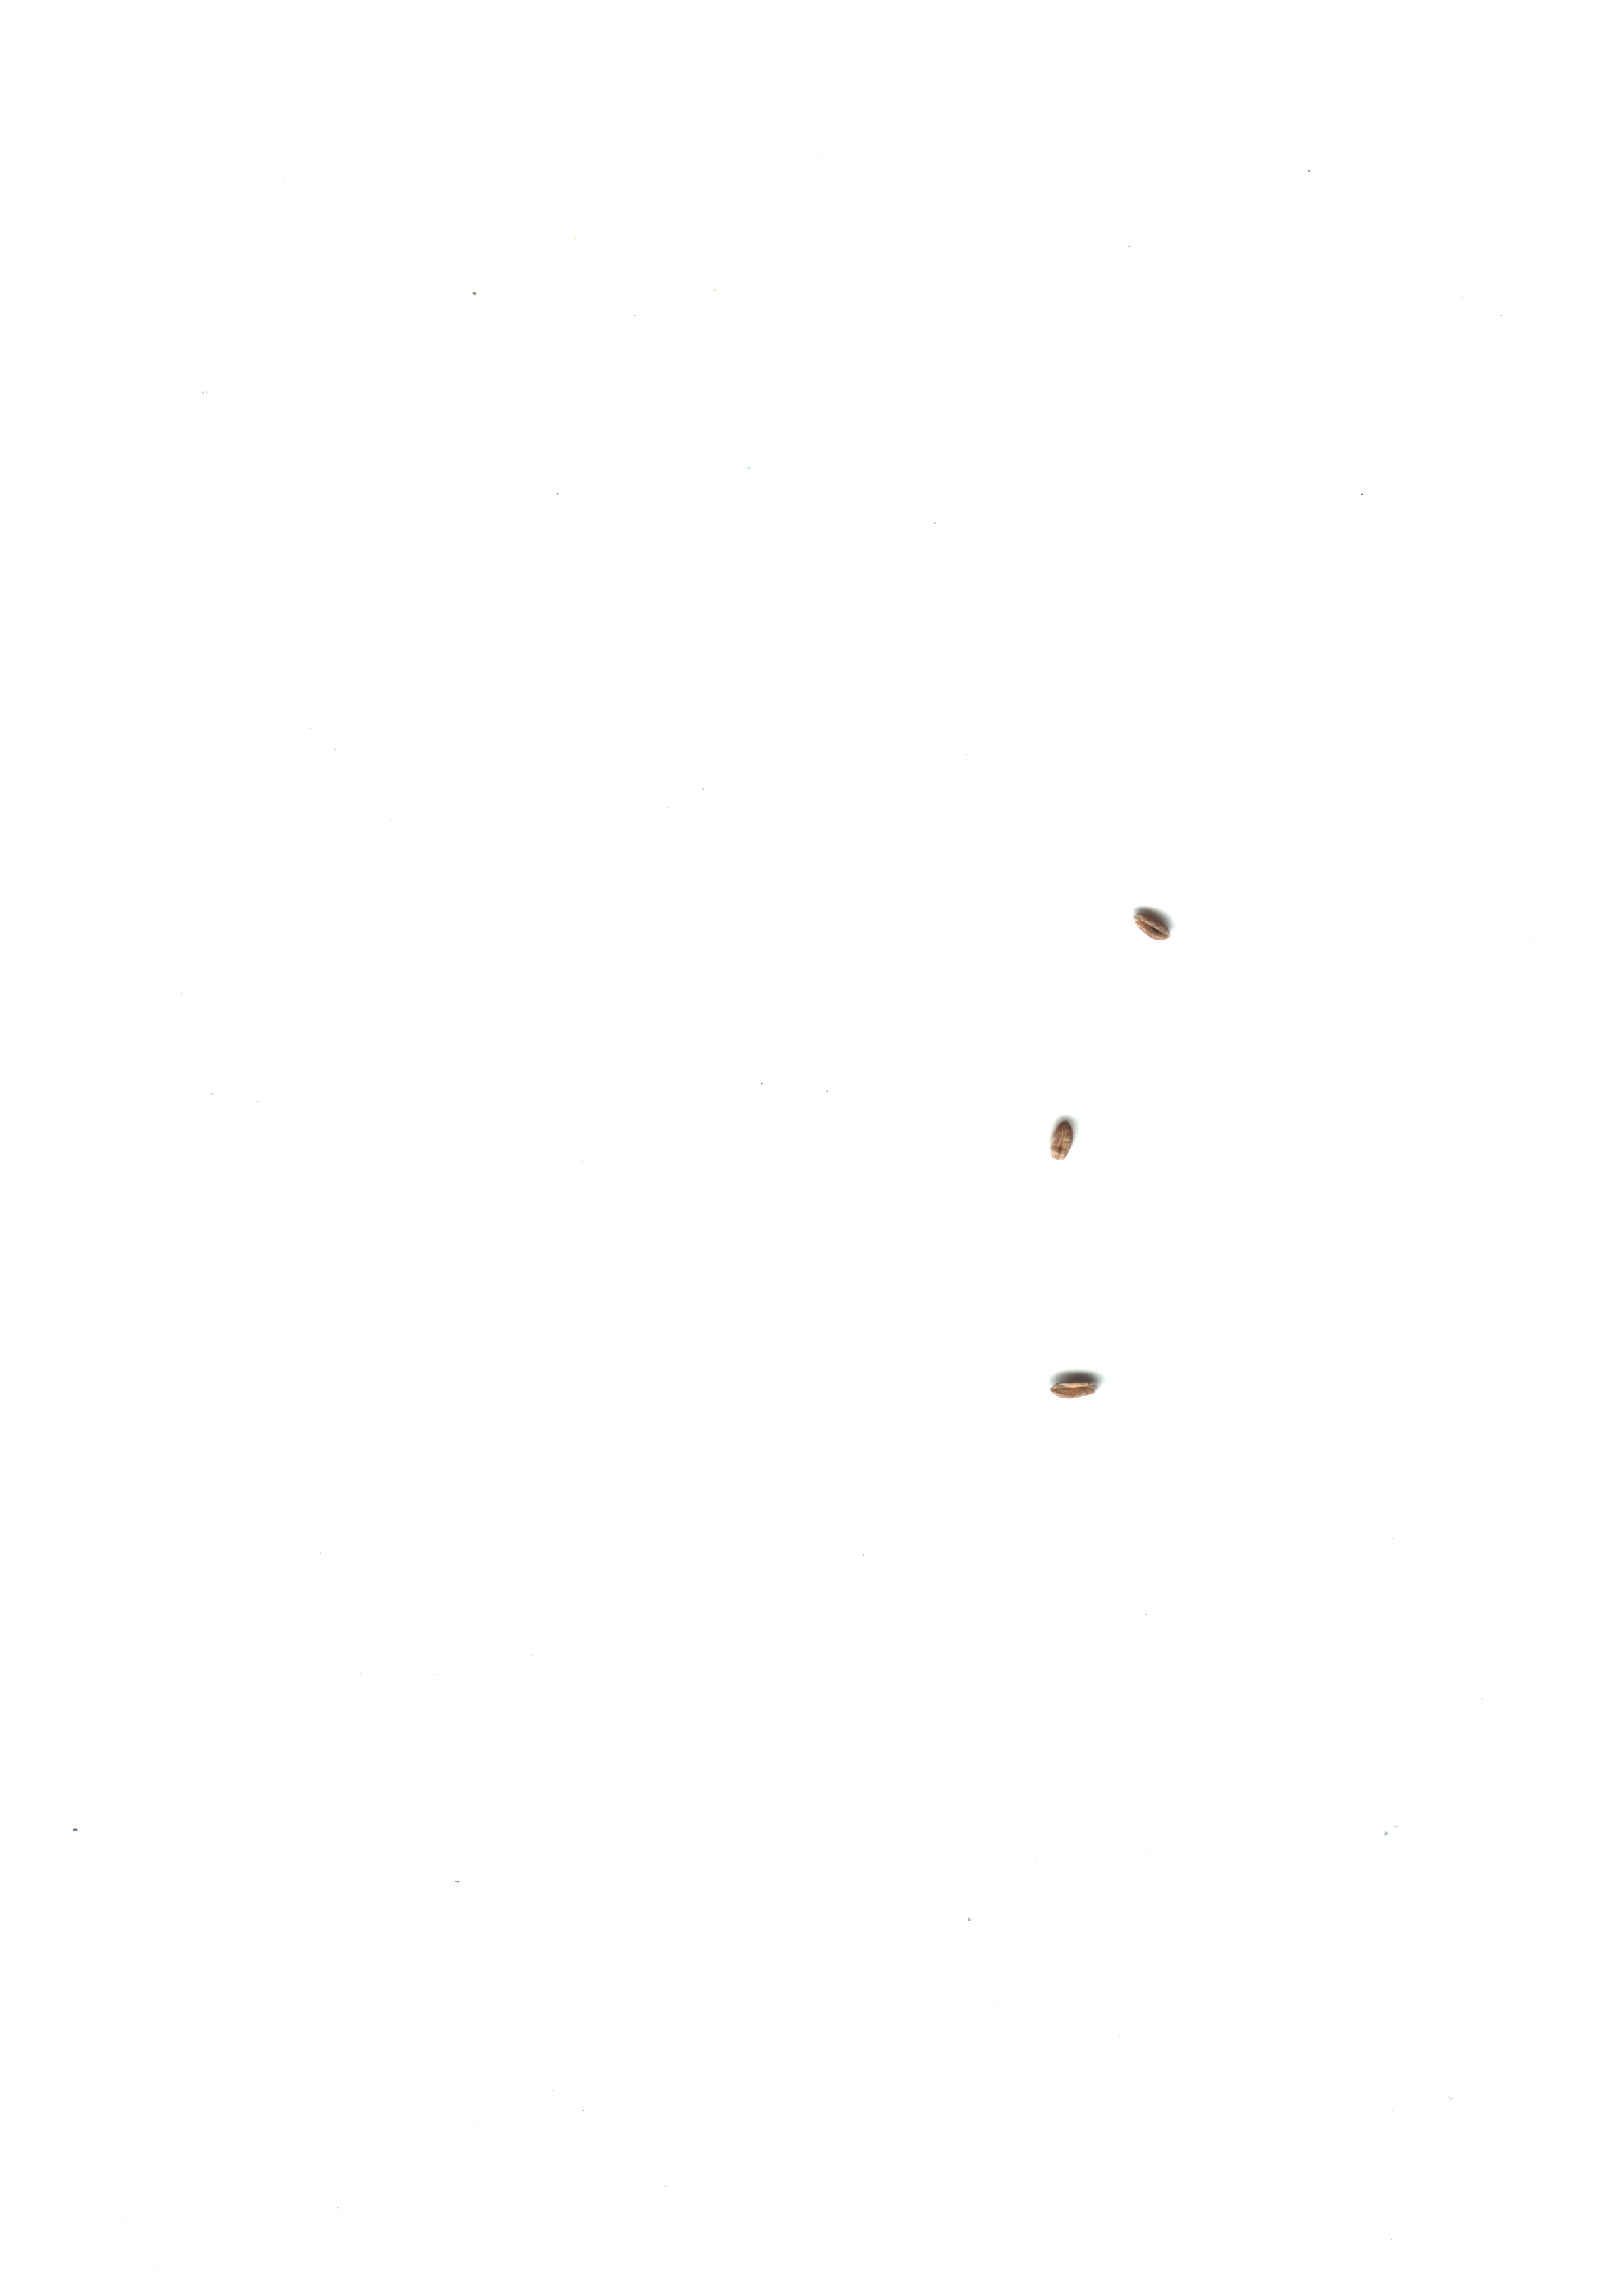grains_2_5mm: (1030, 1344, 1113, 1434), (1016, 1092, 1097, 1181), (1113, 878, 1193, 967)
